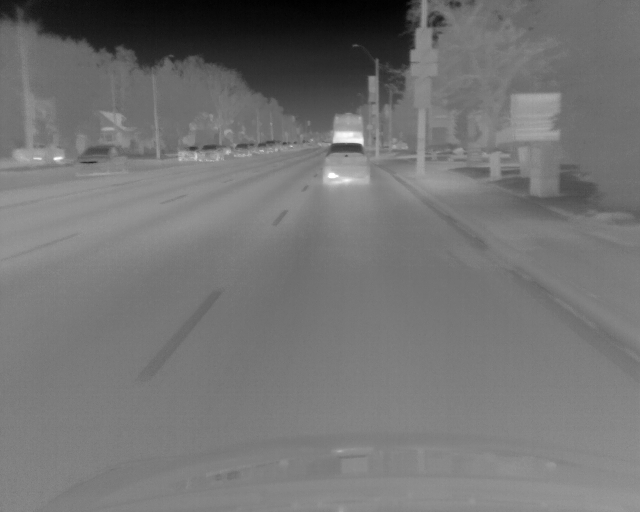car: (322, 142, 371, 184), (75, 145, 129, 176), (12, 143, 66, 163), (332, 112, 364, 144), (198, 144, 224, 161), (176, 146, 197, 163), (233, 143, 251, 157), (255, 142, 266, 155), (266, 140, 276, 154)
